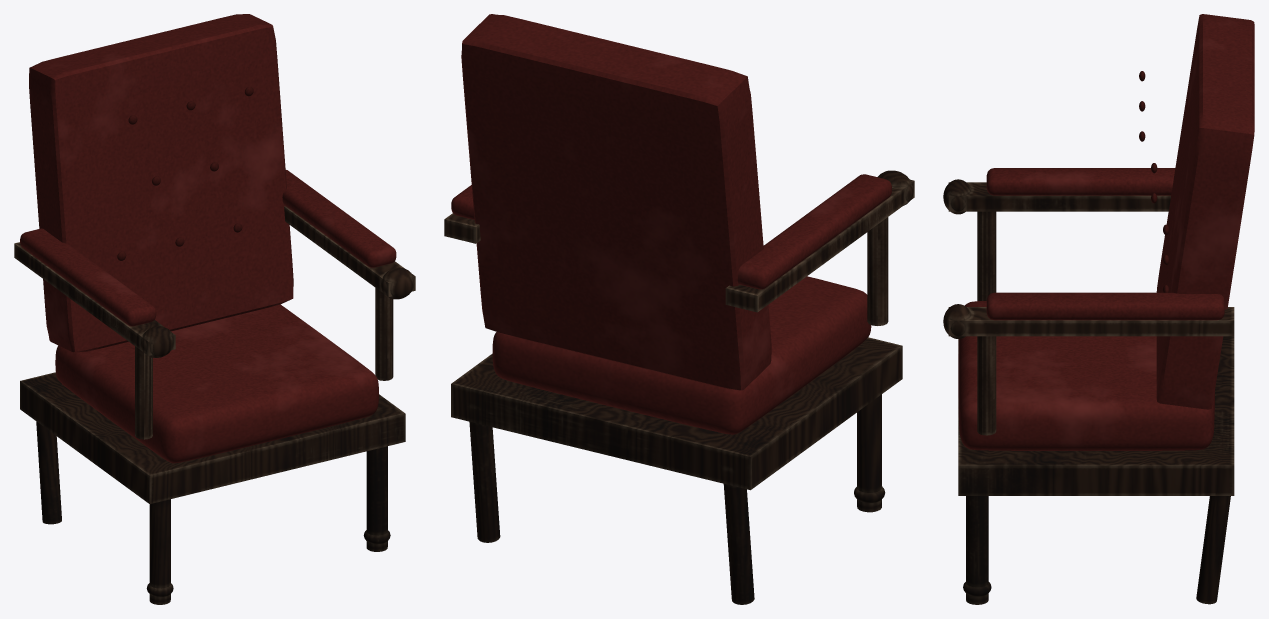
Rendered from vera_armchair.glb.
3 views of the same model, side by side, from view 1: azimuth 30°, elevation 25°; view 2: azimuth 150°, elevation 25°; view 3: azimuth 270°, elevation 25° (orthographic). The views are drawn at different scales.
Visible parts, largest first — view 1: Back, Frame, Seat, Pads, Buttons; view 2: Back, Frame, Seat, Pads; view 3: Frame, Back, Seat, Pads, Buttons.
Part boxes in pixels (left/top/right/bottom): Back: left=29, top=14, right=293, bottom=352; Frame: left=14, top=206, right=415, bottom=604; Seat: left=55, top=304, right=378, bottom=463; Pads: left=20, top=170, right=396, bottom=326; Buttons: left=117, top=87, right=253, bottom=260; Back: left=461, top=14, right=771, bottom=390; Frame: left=444, top=170, right=914, bottom=604; Seat: left=492, top=276, right=871, bottom=434; Pads: left=451, top=174, right=891, bottom=289; Frame: left=943, top=179, right=1234, bottom=604; Back: left=1156, top=14, right=1254, bottom=409; Seat: left=958, top=301, right=1214, bottom=450; Pads: left=986, top=168, right=1224, bottom=320; Buttons: left=1139, top=71, right=1169, bottom=292.
Bounding box in the file's own units: 0.701 × 1.11 × 0.6546.
5 materials, 5 textured.
